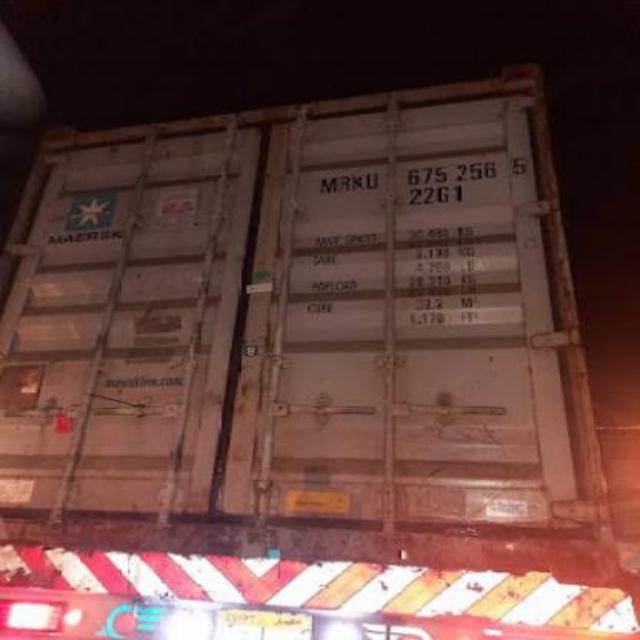2: (454, 162, 468, 182)
5: (468, 160, 482, 182), (436, 166, 448, 184), (514, 156, 526, 174)
6: (482, 161, 496, 179), (408, 169, 420, 185)
7: (422, 167, 434, 183)
K: (352, 173, 364, 191)
M: (318, 176, 338, 197)
R: (338, 175, 350, 193)
U: (366, 174, 378, 190)
